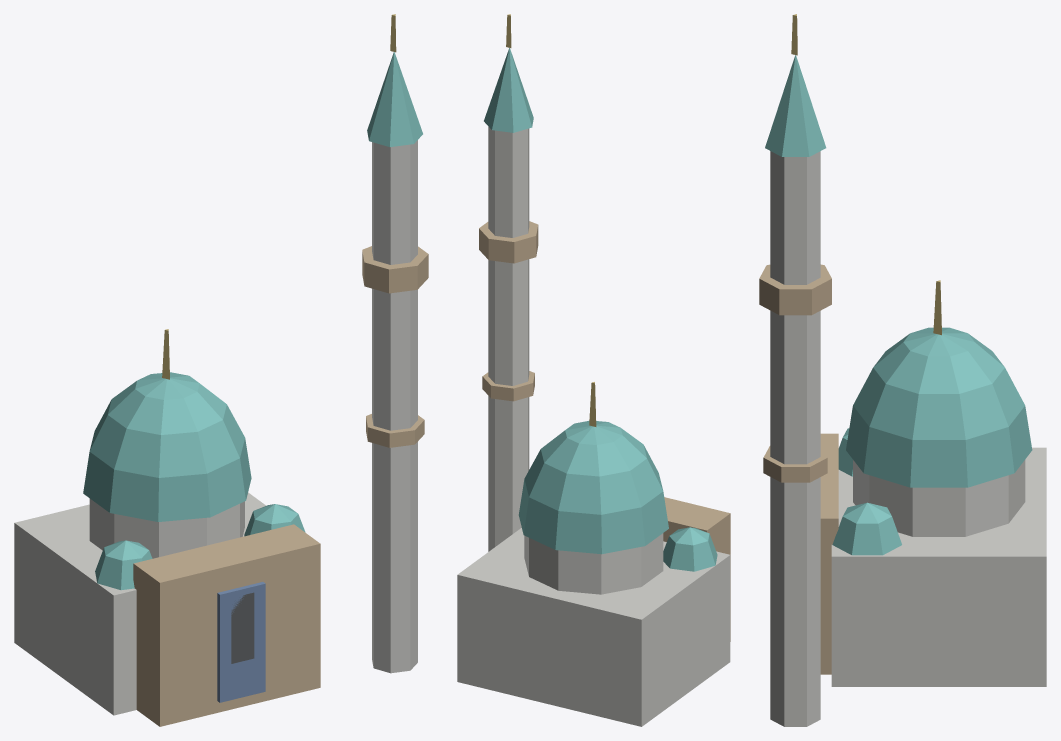
The model's file is mosque.glb.
3 views of the same model, side by side, from view 1: azimuth 30°, elevation 25°; view 2: azimuth 150°, elevation 25°; view 3: azimuth 270°, elevation 25° (orthographic). The views are drawn at different scales.
Parts seen in each view (by area): view 1: LOD0; view 2: LOD0; view 3: LOD0.
Part boxes in pixels (x1=…): LOD0: x1=14, y1=14, x2=428, y2=726; LOD0: x1=457, y1=14, x2=730, y2=726; LOD0: x1=759, y1=14, x2=1046, y2=726.
Size of what is drawn, in the model's own units: 0.2534 by 0.54 by 0.2003.
